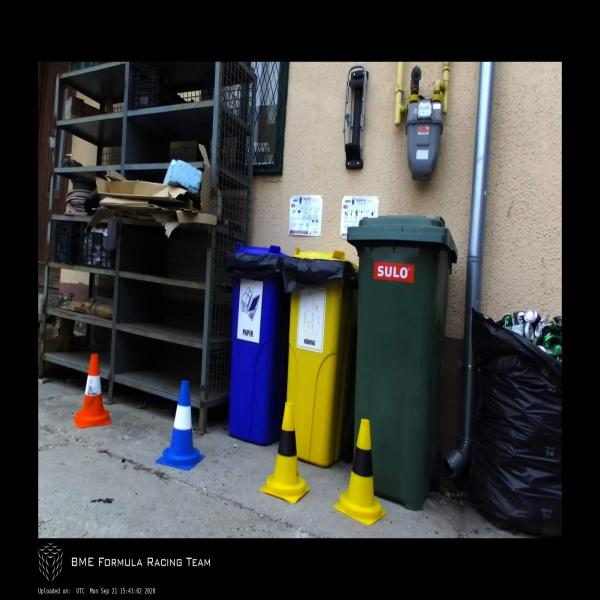blue_cone: (156, 380, 204, 470)
orange_cone: (74, 354, 111, 428)
yellow_cone: (334, 419, 387, 526), (260, 403, 310, 504)
